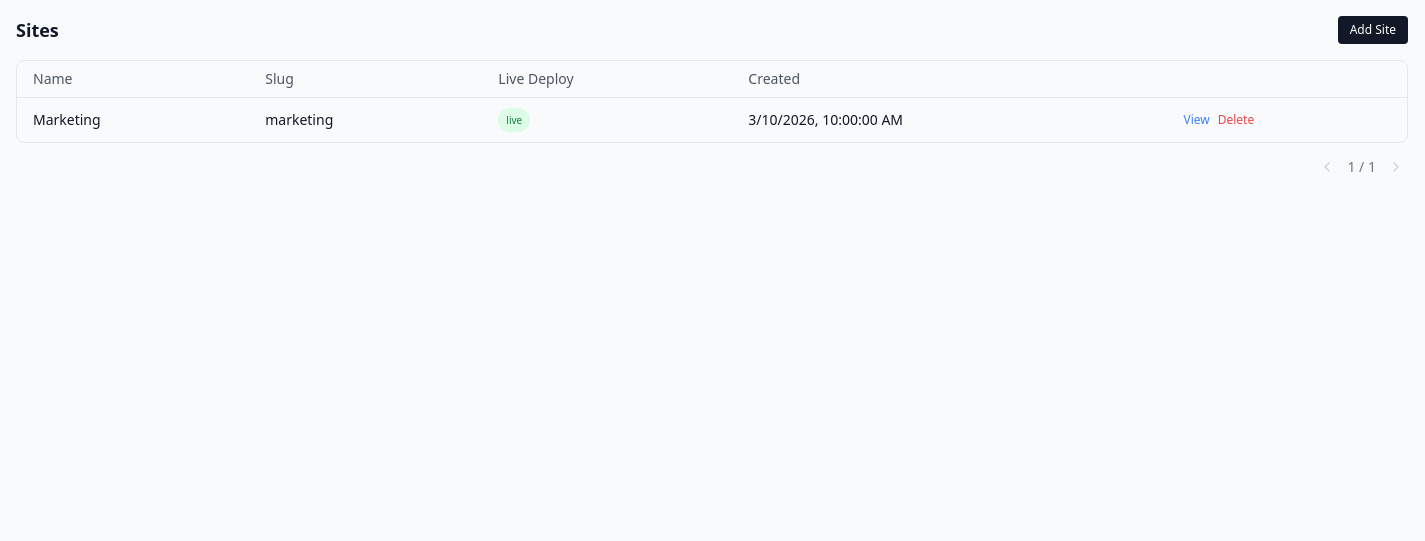
Sites › keeps the sites list visible when create fails
Expected: the text "Marketing" is shown, [17,98,249,142]
Click the button "Add Site" at (1373, 30), box [1338,16,1408,44]
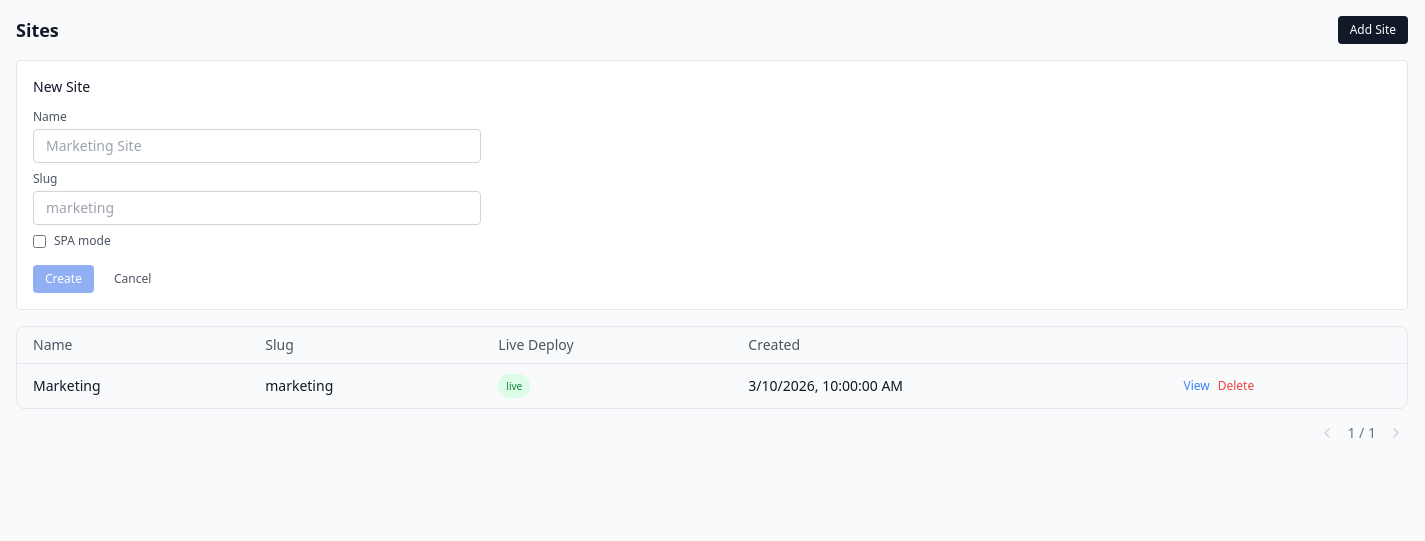
Type "Docs" into the field labelled "Name" at (257, 146), box [33,129,481,163]
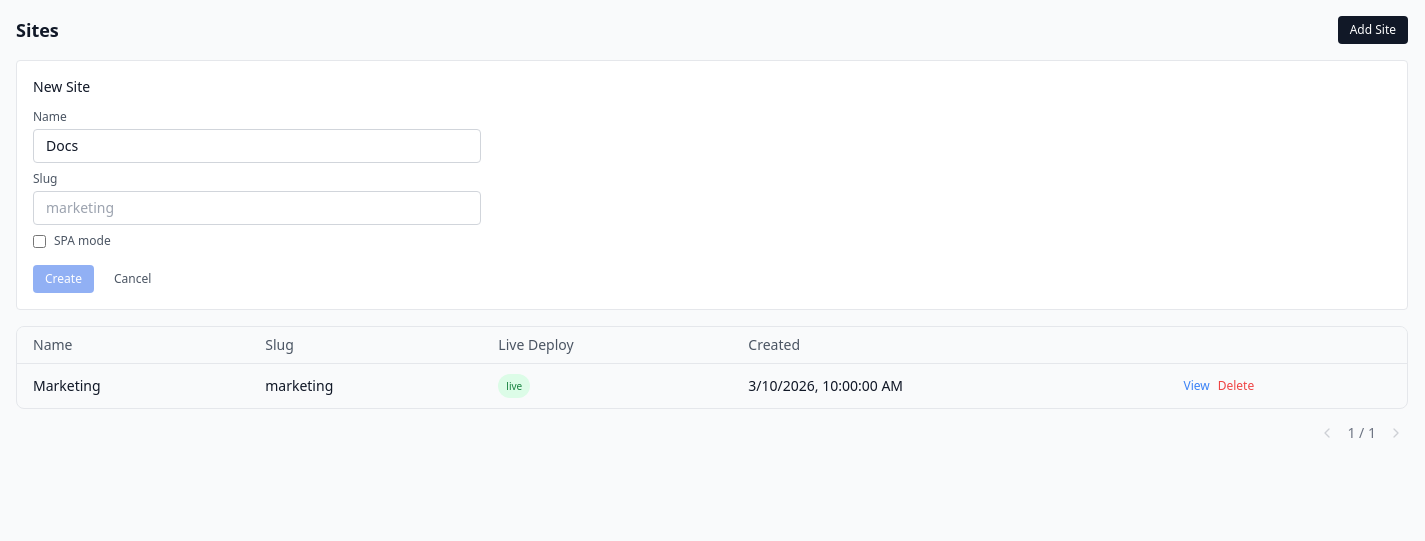
Type "docs" into the field labelled "Slug" at (257, 208), box [33,191,481,225]
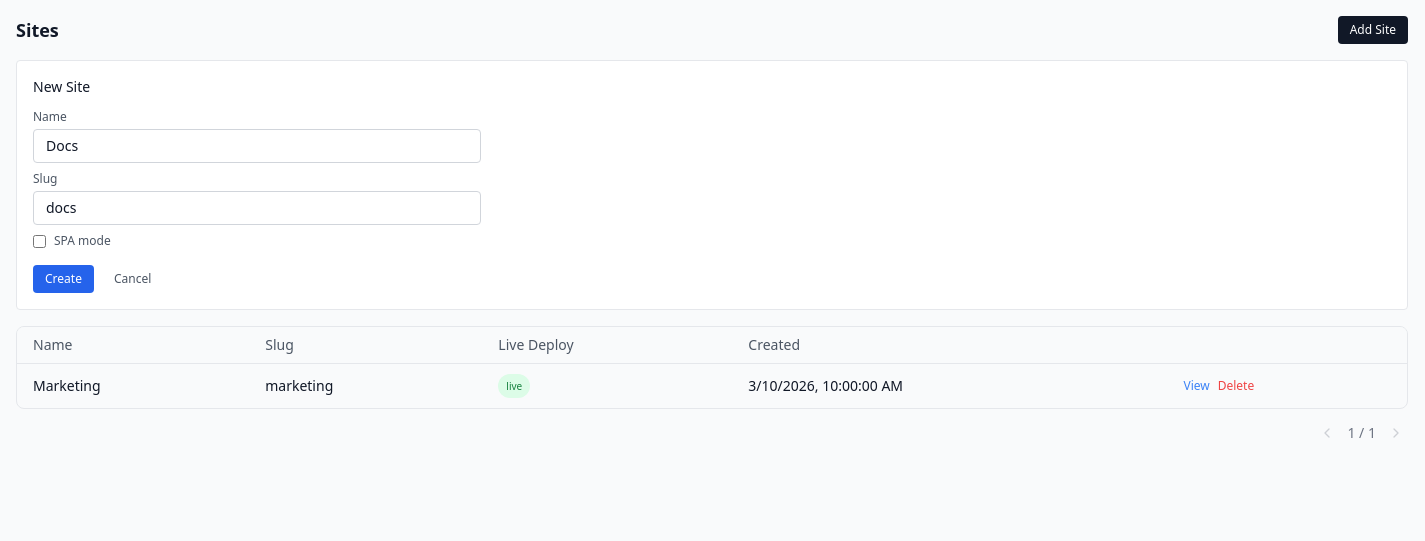
Click the button "Create" at (63, 279), box [33,265,94,293]
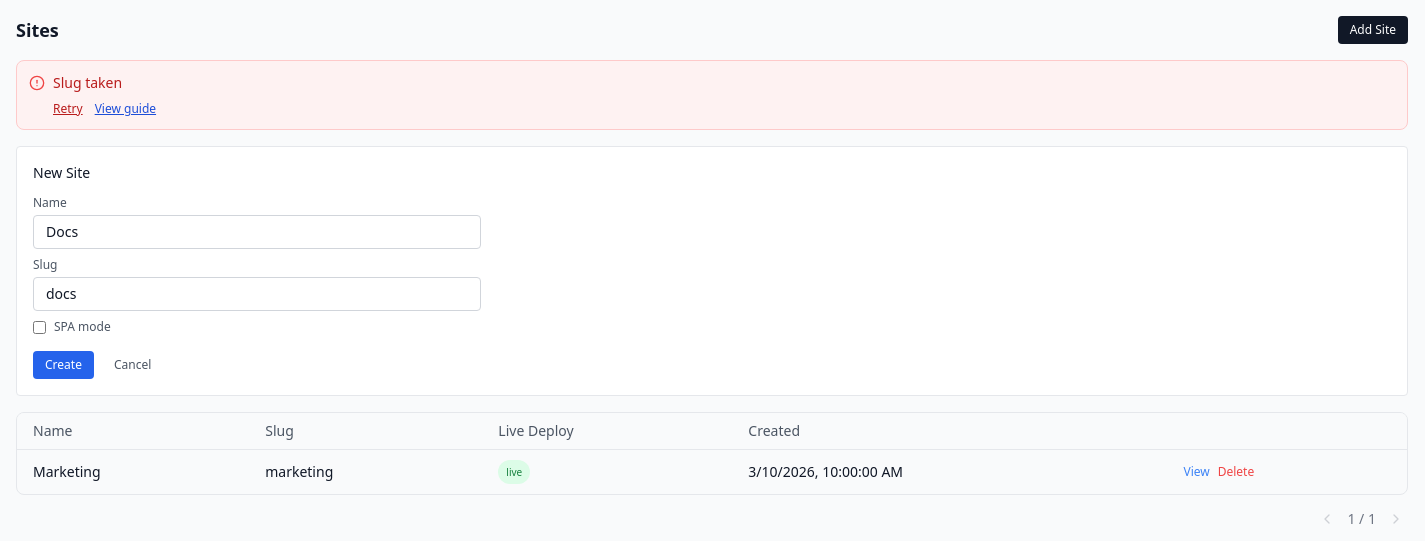
Expected: the text "Marketing" is shown, [17,450,249,494]
Expected: the heading "New Site" is shown, [33,163,90,182]
Expected: the text "Slug taken" is shown, [53,73,122,92]
